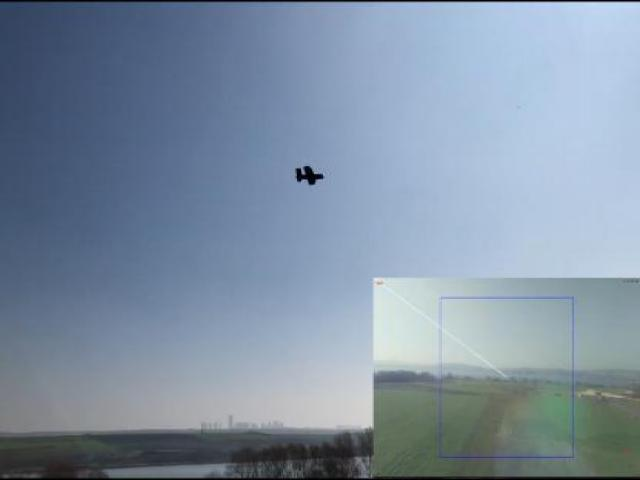uav: (293, 160, 325, 190)
